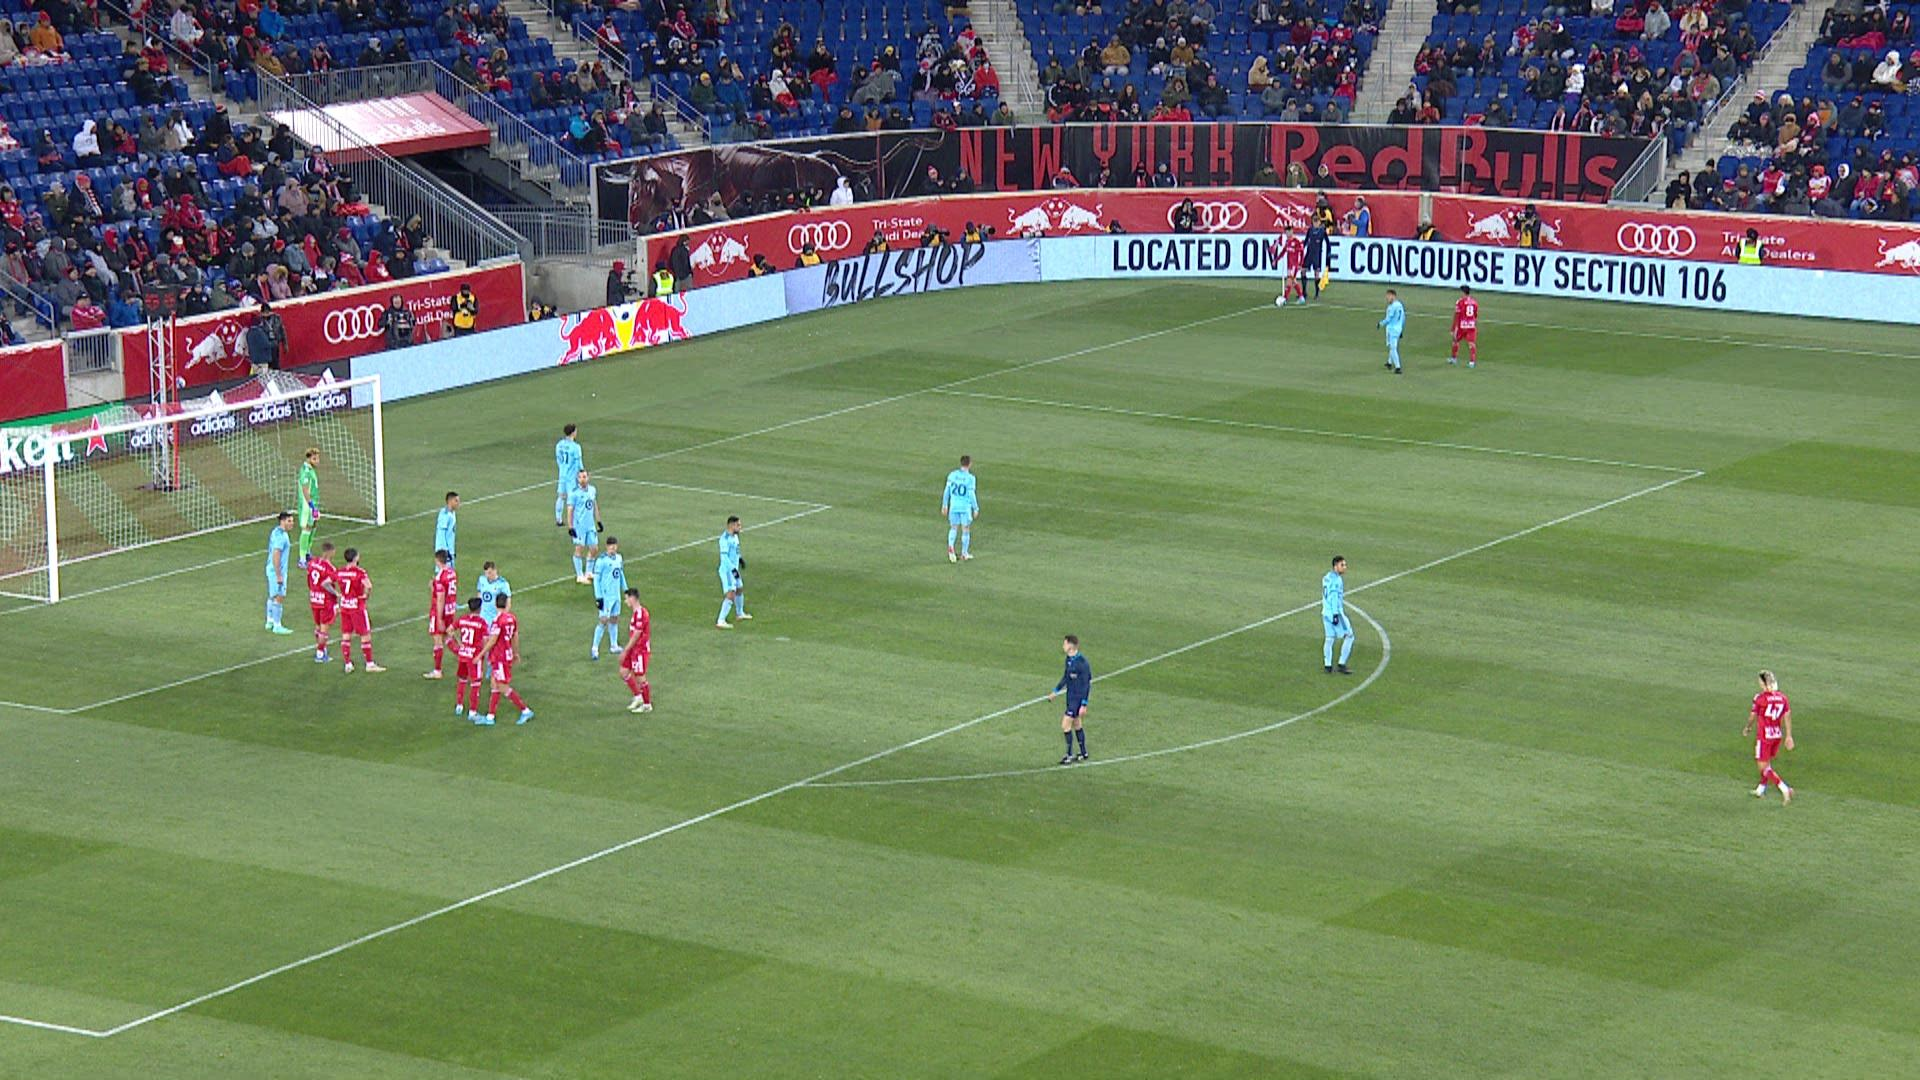football: (1275, 298, 1284, 306)
